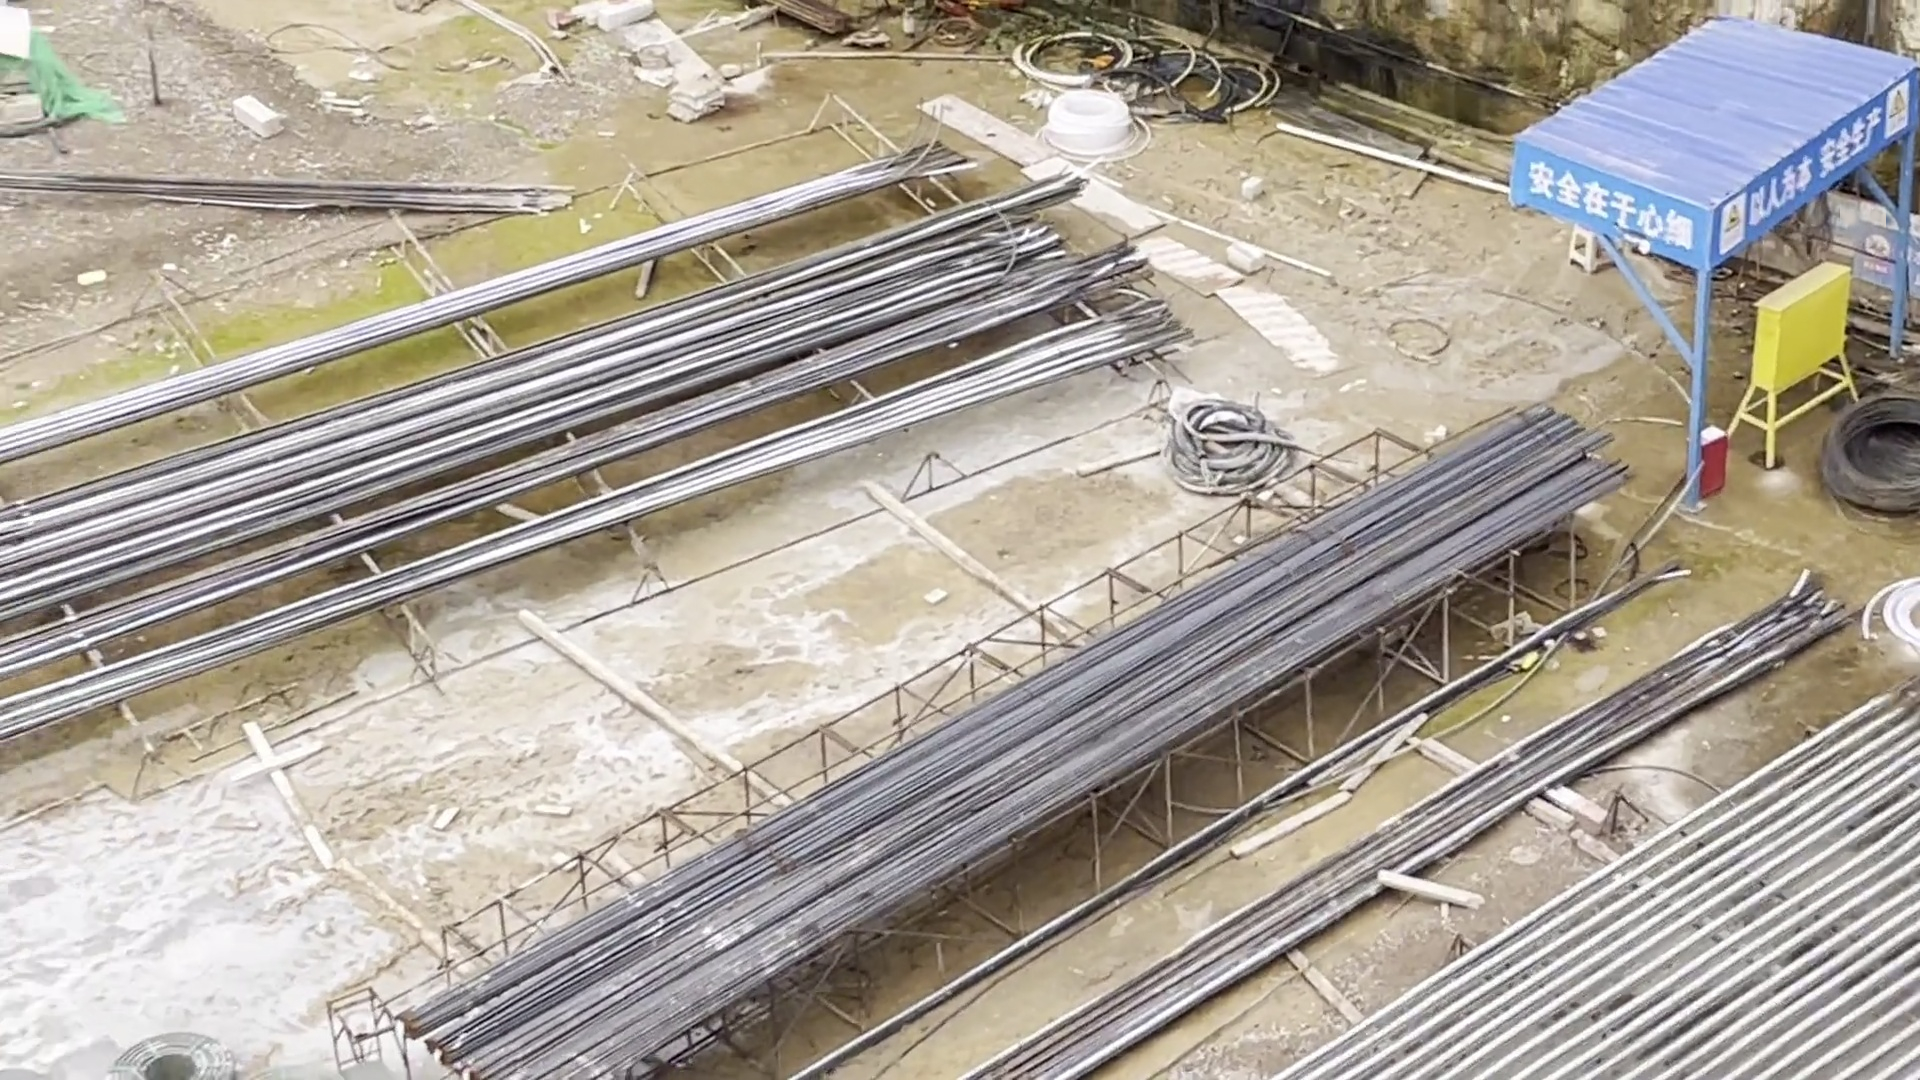ebox: (1754, 258, 1854, 467)
rebar: (1, 229, 1040, 618), (394, 661, 1216, 1080), (1110, 404, 1634, 671)
slogan: (1721, 96, 1905, 239), (1524, 160, 1695, 257)
